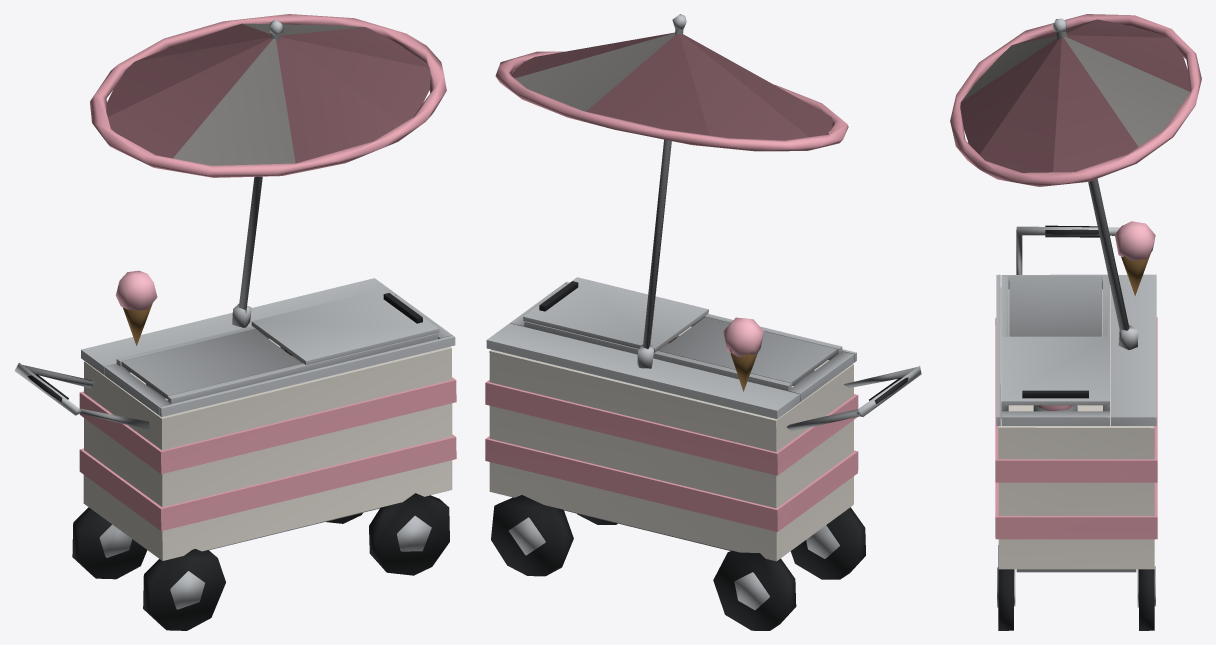
Rendered from iceCreamCart.far.glb.
3 renders of one model, left to right at view 1: azimuth 30°, elevation 25°; view 2: azimuth 150°, elevation 25°; view 3: azimuth 270°, elevation 25°, orthographic.
Parts seen in each view (by area): view 1: iceCreamCart_far; view 2: iceCreamCart_far; view 3: iceCreamCart_far.
Boxes of the visible parts, x1,y1,x2,y2 form: iceCreamCart_far: (14,14,456,630); iceCreamCart_far: (485,14,921,630); iceCreamCart_far: (950,14,1201,630).
Size of the model in its own units: 1.73 by 2.35 by 0.967.
